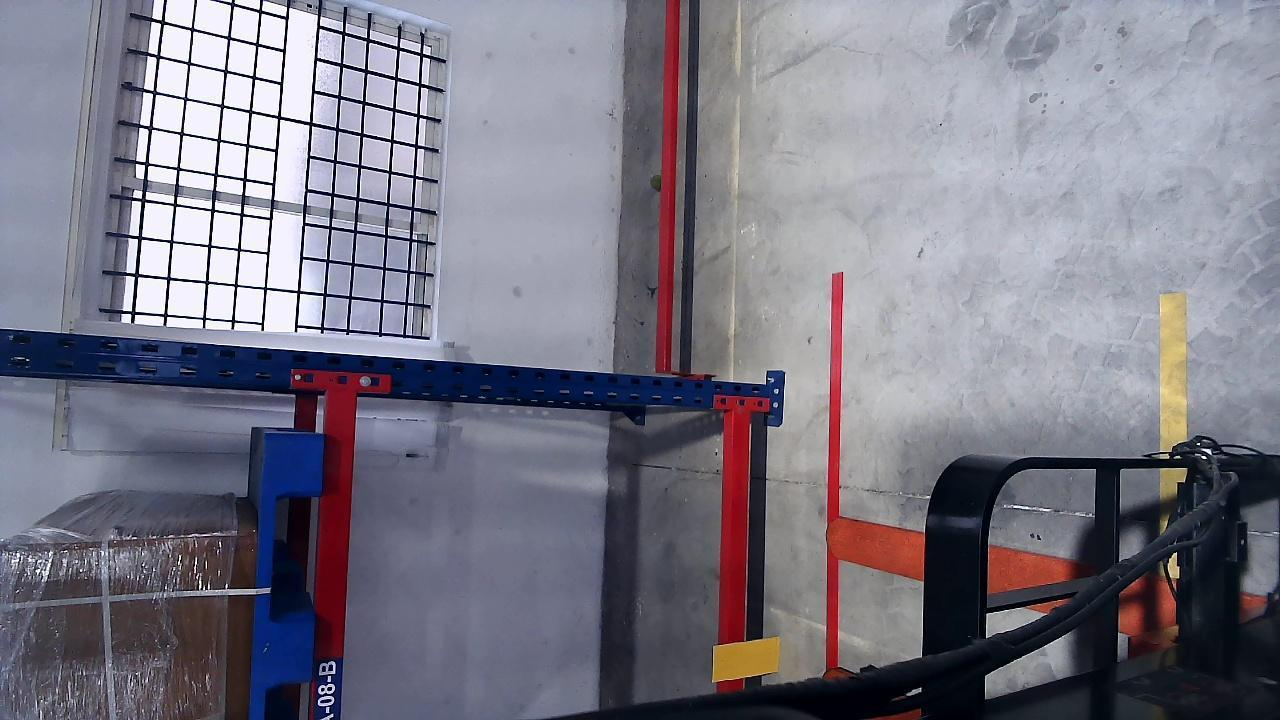red_line: (827, 267, 842, 677)
yellow_line: (1158, 292, 1189, 450)
